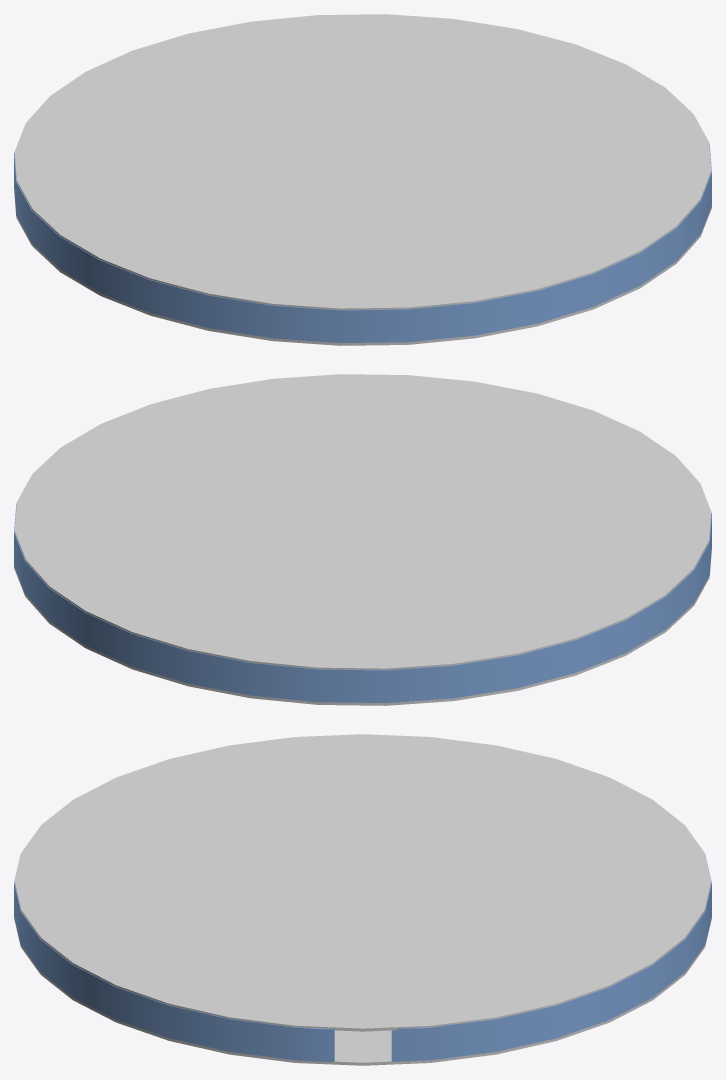
Rendered from small labirint.fbx.
3 renders of one model, top to bottom at view 1: azimuth 30°, elevation 25°; view 2: azimuth 150°, elevation 25°; view 3: azimuth 270°, elevation 25°, orthographic.
Visible parts, largest first — view 1: Plane.001, Plane; view 2: Plane.001, Plane; view 3: Plane.001, Plane.
Boxes of the visible parts, left/top/right/bottom form: Plane.001: left=14, top=14, right=711, bottom=345; Plane: left=14, top=104, right=711, bottom=342; Plane.001: left=14, top=374, right=711, bottom=705; Plane: left=14, top=503, right=711, bottom=702; Plane.001: left=14, top=734, right=711, bottom=1065; Plane: left=14, top=854, right=711, bottom=1061.
Bounding box in the file's own units: 498 × 29.11 × 499.
